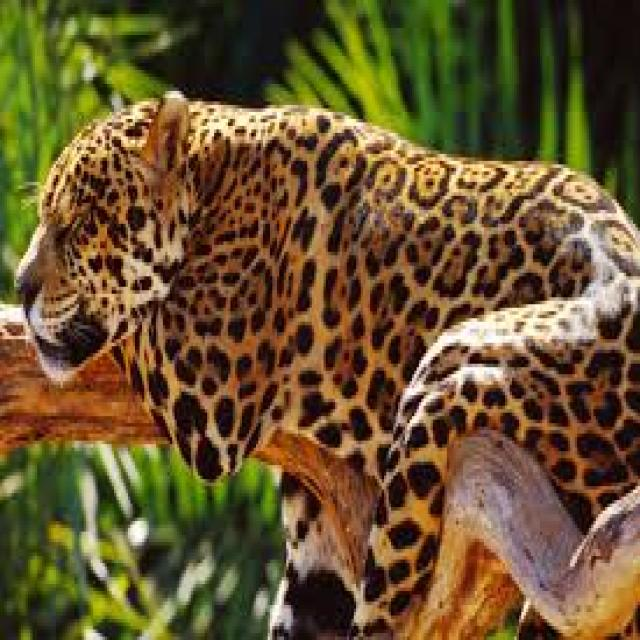Jaguar: (26, 66, 635, 577)
